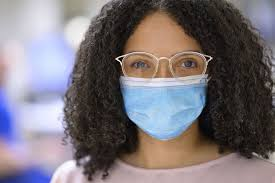with-mask: (103, 3, 220, 147)
